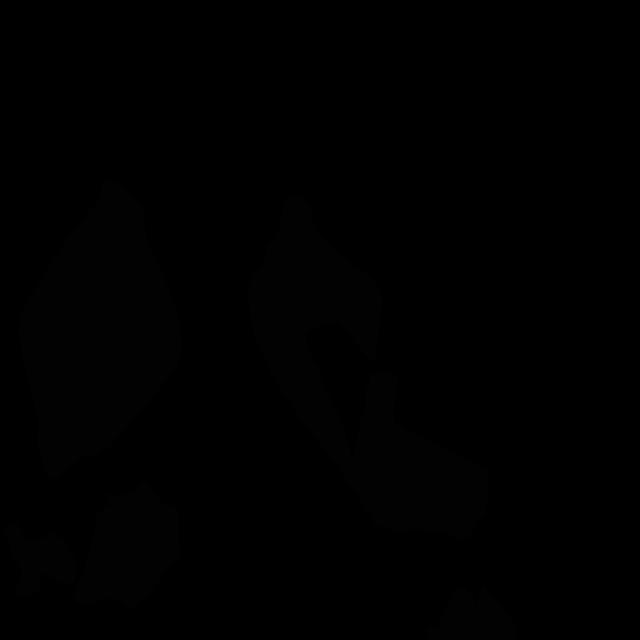cardboard: (248, 196, 489, 540), (19, 178, 182, 479), (72, 479, 181, 610), (425, 582, 517, 640), (4, 524, 76, 597), (364, 373, 398, 422)
